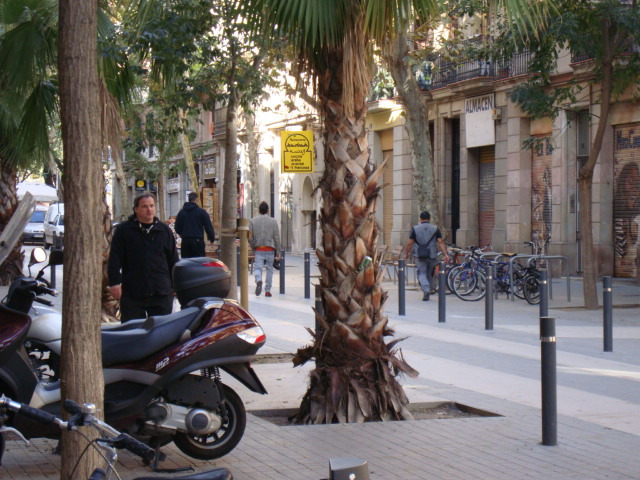undeflect: (118, 198, 176, 262)
